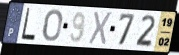2: (134, 14, 156, 48)
7: (117, 13, 138, 48)
9: (69, 10, 88, 44)
L: (20, 7, 37, 42)
O: (42, 9, 64, 43)
X: (87, 11, 114, 48)
